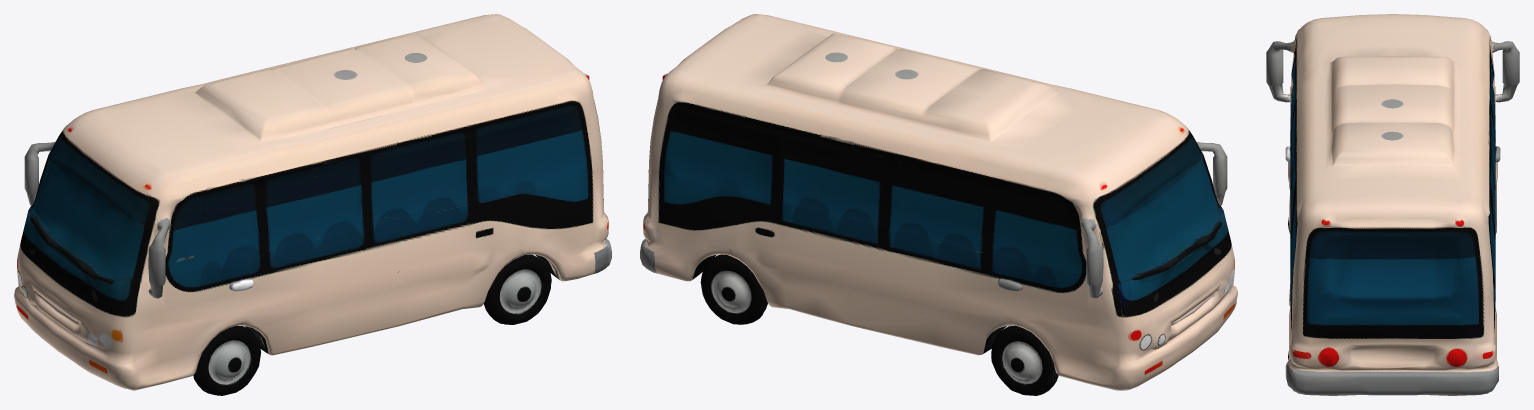
The model's file is Meshy_AI_Generate_a_stylized_g_0511171049_texture.fbx.
The picture shows the model from 3 angles, left to right: view 1: azimuth 30°, elevation 25°; view 2: azimuth 150°, elevation 25°; view 3: azimuth 270°, elevation 25°; orthographic projection. The views are drawn at different scales.
Parts seen in each view (by area): view 1: Mesh_0; view 2: Mesh_0; view 3: Mesh_0.
Part boxes in pixels (left/top/right/bottom): Mesh_0: left=14, top=14, right=611, bottom=395; Mesh_0: left=640, top=14, right=1237, bottom=395; Mesh_0: left=1266, top=14, right=1519, bottom=395.
Size of the model in its own units: 190 by 87.28 by 87.28.
Materials: 1 (1 with a texture image).
